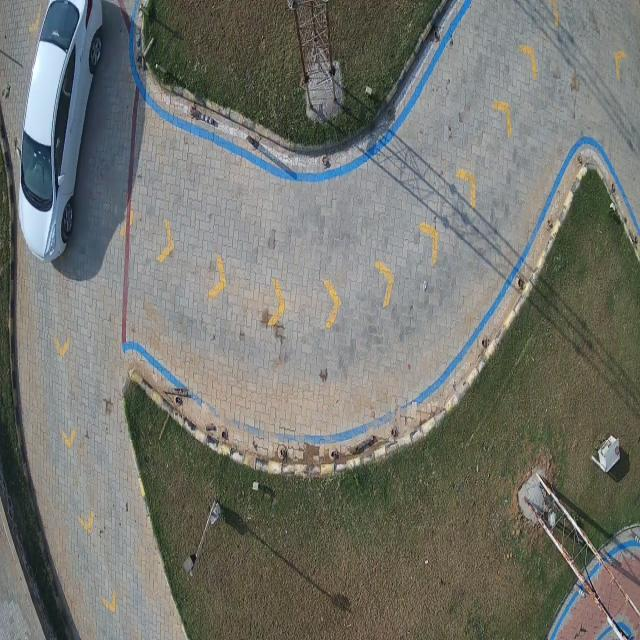car: (19, 0, 102, 260)
